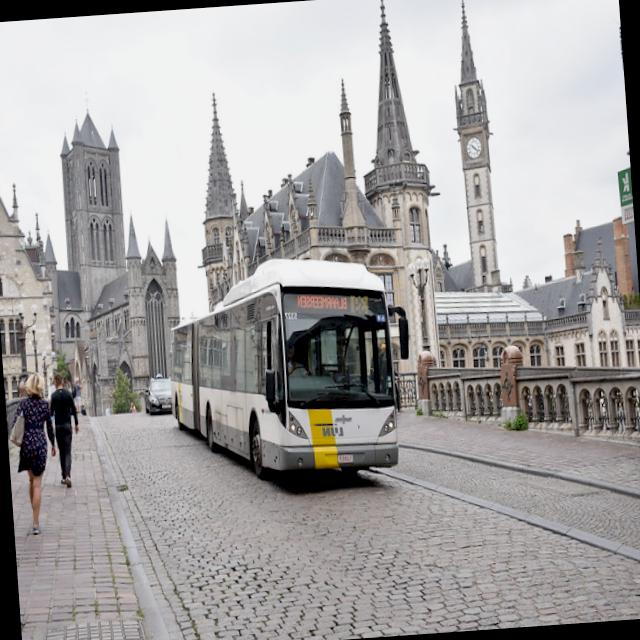bus-number: (349, 295, 368, 315)
